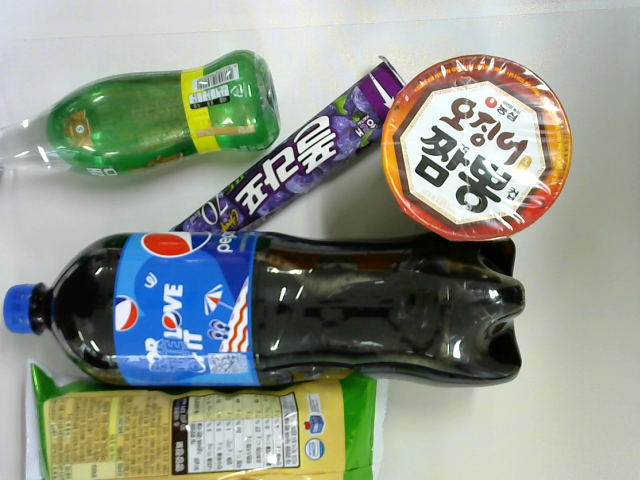Ojjam: (382, 54, 575, 244)
Pepsi_Cola_1.5L: (1, 230, 525, 395)
Pocachip_Onion: (18, 358, 398, 480)
Polapo_Grape: (168, 57, 410, 231)
Seagram_Lemon_Carbonated_Water: (1, 45, 282, 189)
